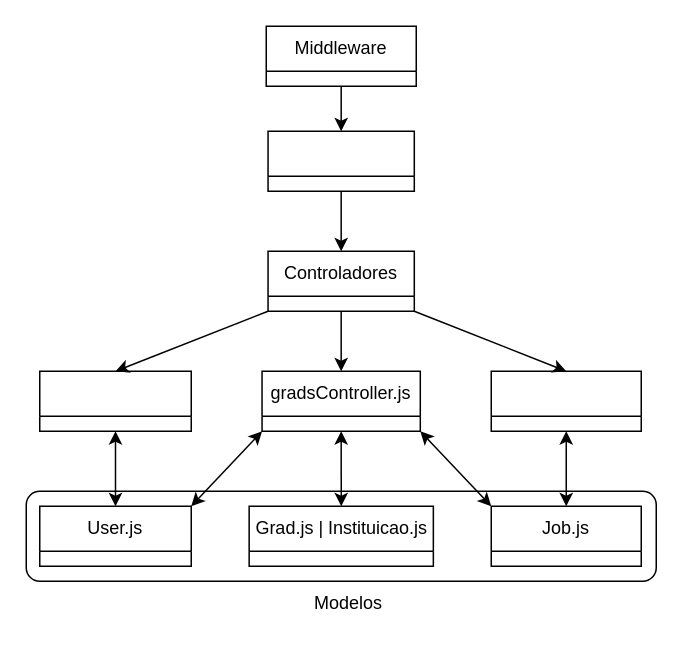
Image size: 683x653. Some labels were removed from this diagram. Here are the shapes that lost their labels. From the top down, the centre of each, then its label:
At point (340, 160): "Rotas".
At point (114, 400): "authController.js".
At point (565, 400): "jobsController.js".
